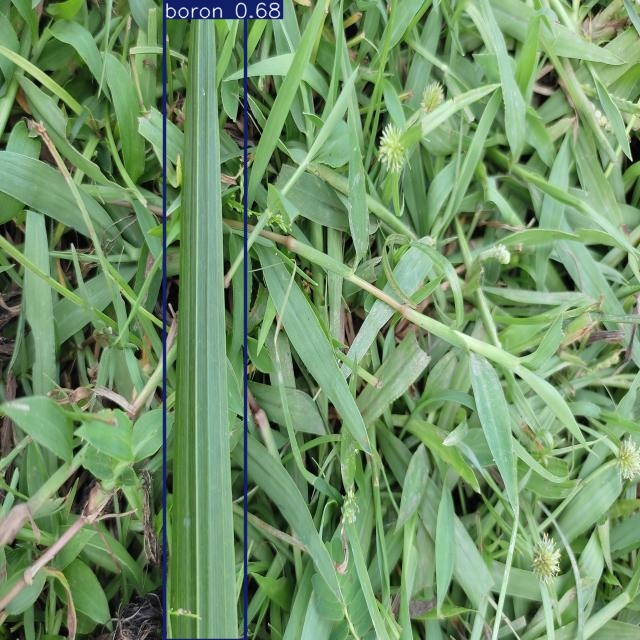nitrogen: (165, 0, 246, 640)
